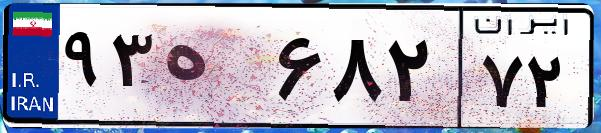2: (385, 28, 445, 110), (525, 38, 570, 115)
3: (110, 28, 158, 98)
6: (270, 28, 330, 110)
7: (475, 38, 525, 113)
8: (330, 28, 385, 110)
9: (57, 26, 110, 100)
ه: (158, 20, 270, 120)
